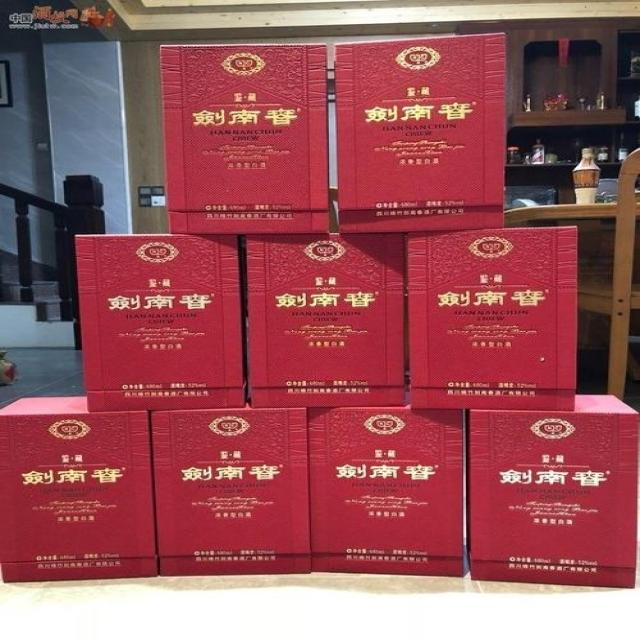box: (334, 32, 504, 233), (466, 394, 639, 588), (404, 225, 579, 411), (160, 43, 330, 234), (76, 234, 247, 411), (242, 231, 410, 408), (0, 396, 159, 582), (148, 401, 311, 576), (308, 403, 470, 577)
